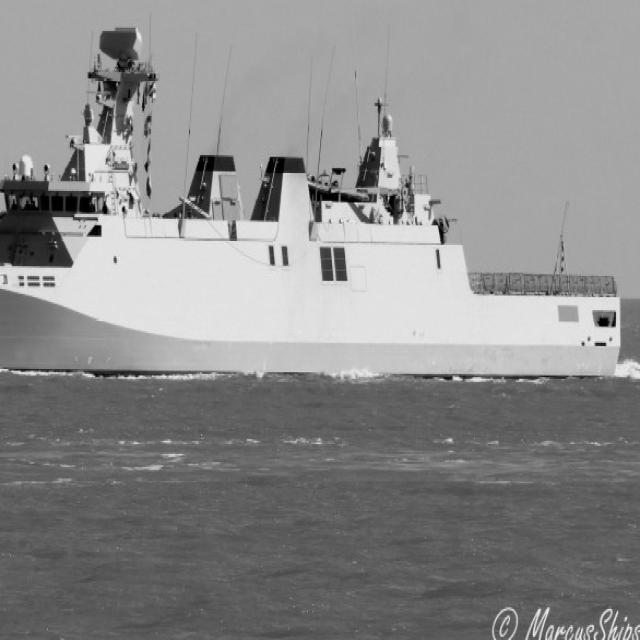Fragata: (1, 26, 630, 382)
